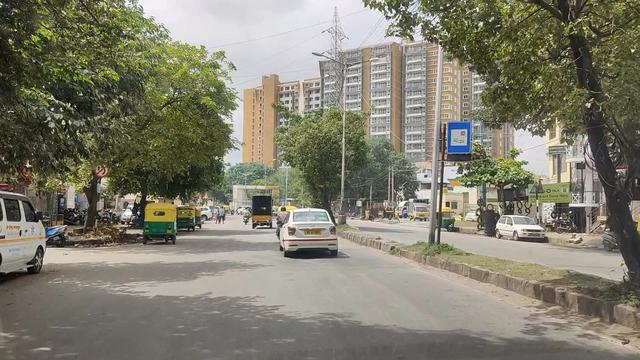LMV: (279, 211, 338, 256), (145, 207, 180, 242)
